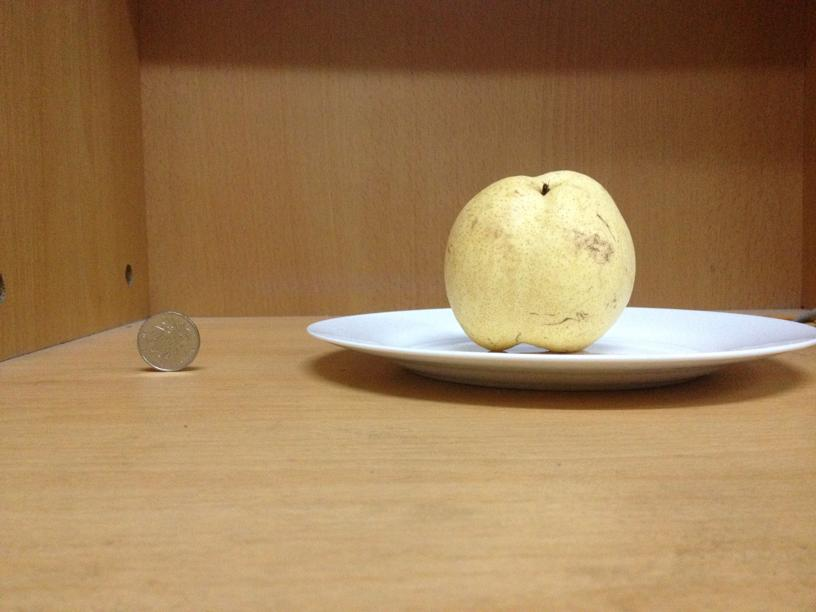coin: (139, 311, 201, 369)
pear: (444, 169, 640, 352)
